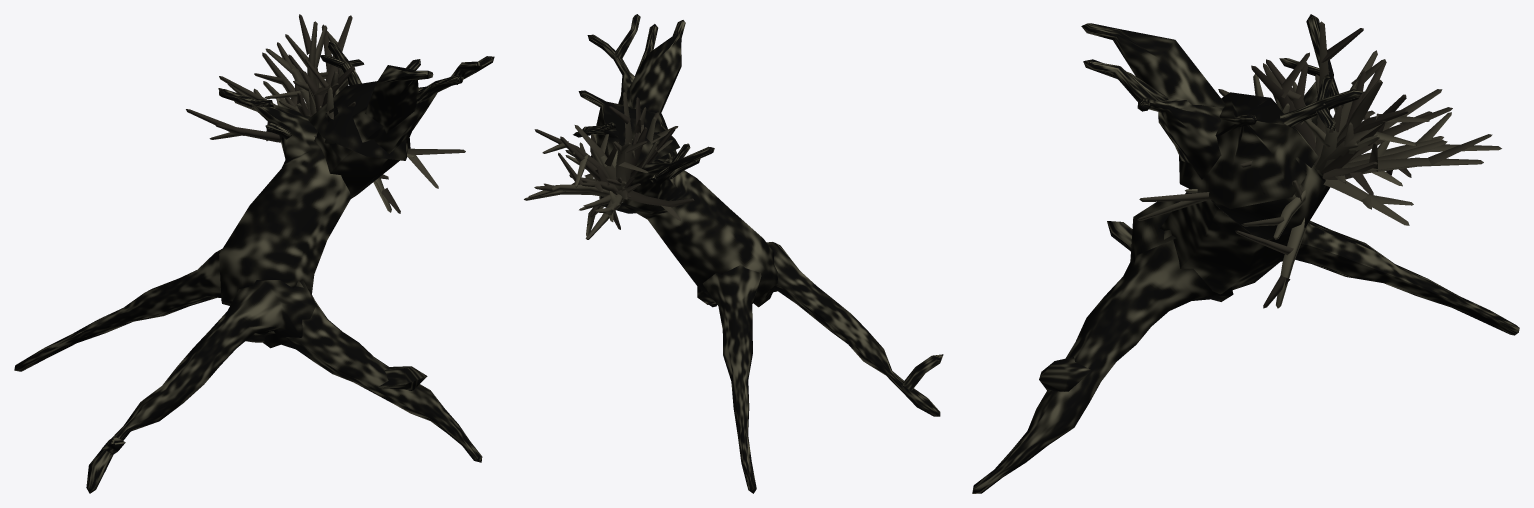
The model's file is VerTreeDead08.glb.
The picture shows the model from 3 angles, left to right: view 1: azimuth 30°, elevation 25°; view 2: azimuth 150°, elevation 25°; view 3: azimuth 270°, elevation 25°; orthographic projection. The views are drawn at different scales.
Parts seen in each view (by area): view 1: VerTreeDead08_limbs; view 2: VerTreeDead08_limbs; view 3: VerTreeDead08_limbs.
Part boxes in pixels (box(x1,y1,x2,y2)): VerTreeDead08_limbs: box(14, 14, 494, 493); VerTreeDead08_limbs: box(524, 14, 943, 493); VerTreeDead08_limbs: box(972, 14, 1519, 493).
Size of the model in its own units: 4.42 by 3.76 by 4.
2 materials, 1 textured.
